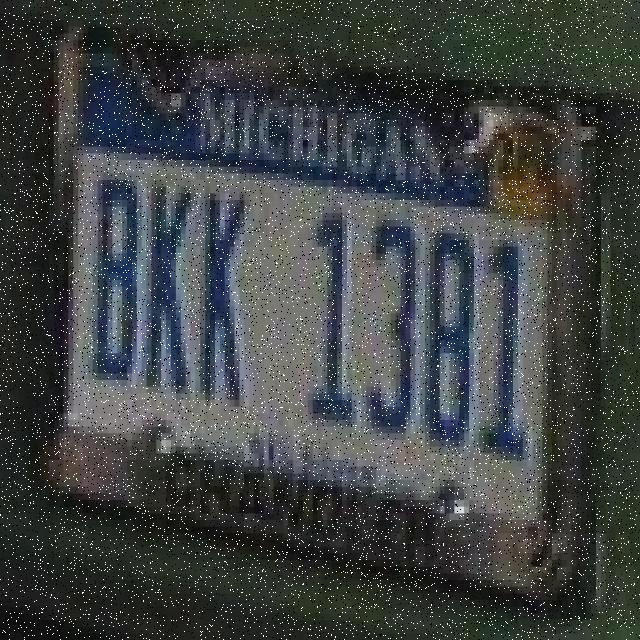LicensePlate: (41, 10, 616, 611)
